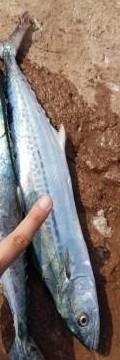fish: (0, 14, 100, 352)
